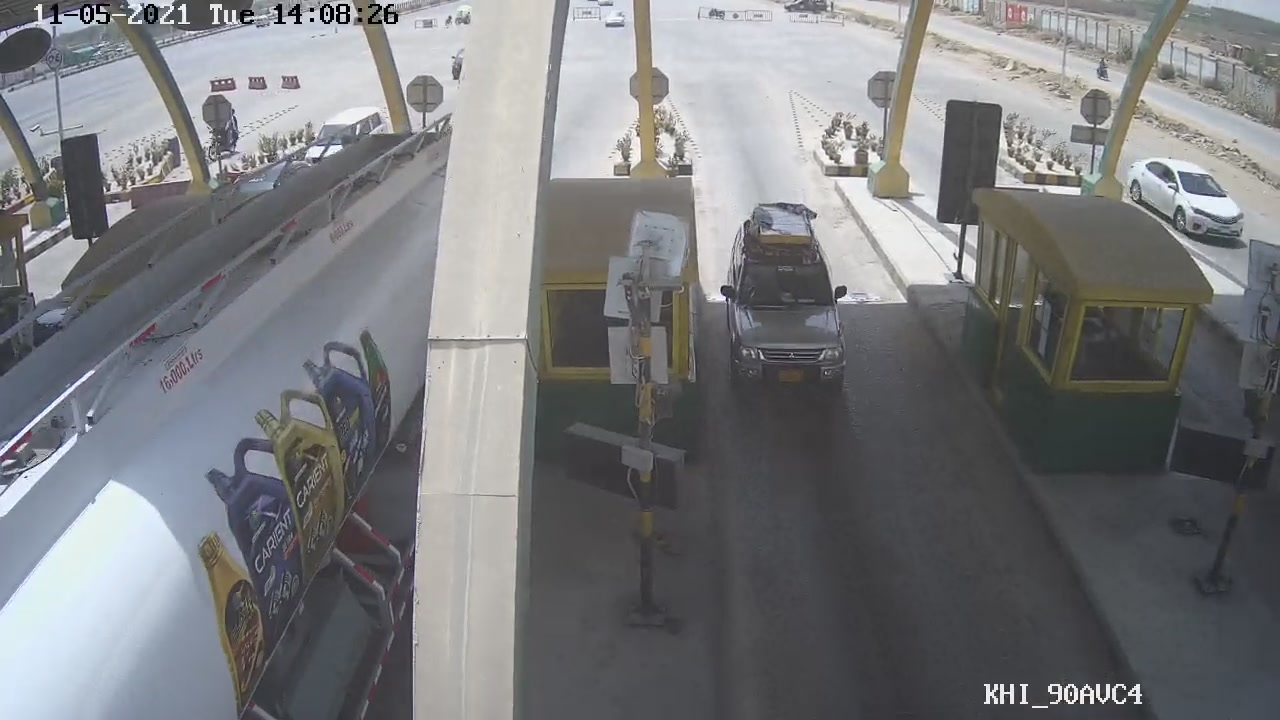F1: (714, 199, 852, 402)
